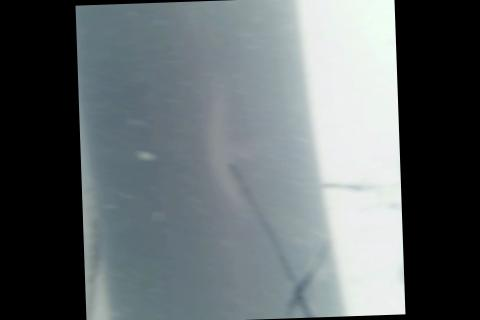keretakan: (221, 154, 335, 320)
